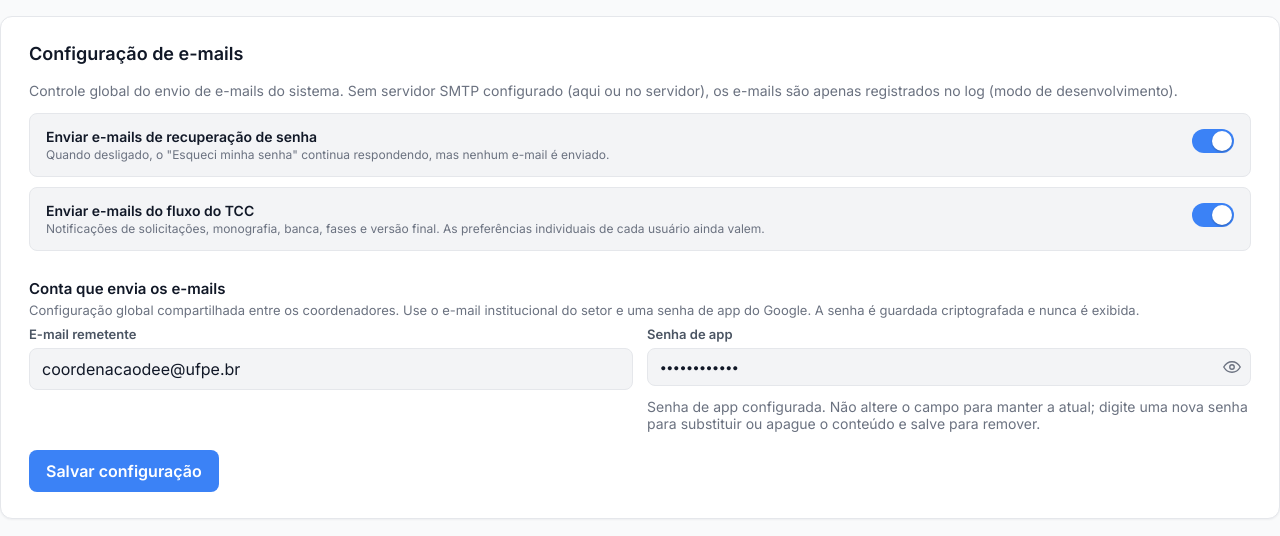
Revelar a senha de app pelo olho (sem modal) › clicar de novo oculta e volta para a máscara
Expected: the heading "Conta que envia os e-mails" is shown, 29,279 -> 226,298
Click the button named "Mostrar senha de app" at (1231, 367), box 1217,353 -> 1245,381
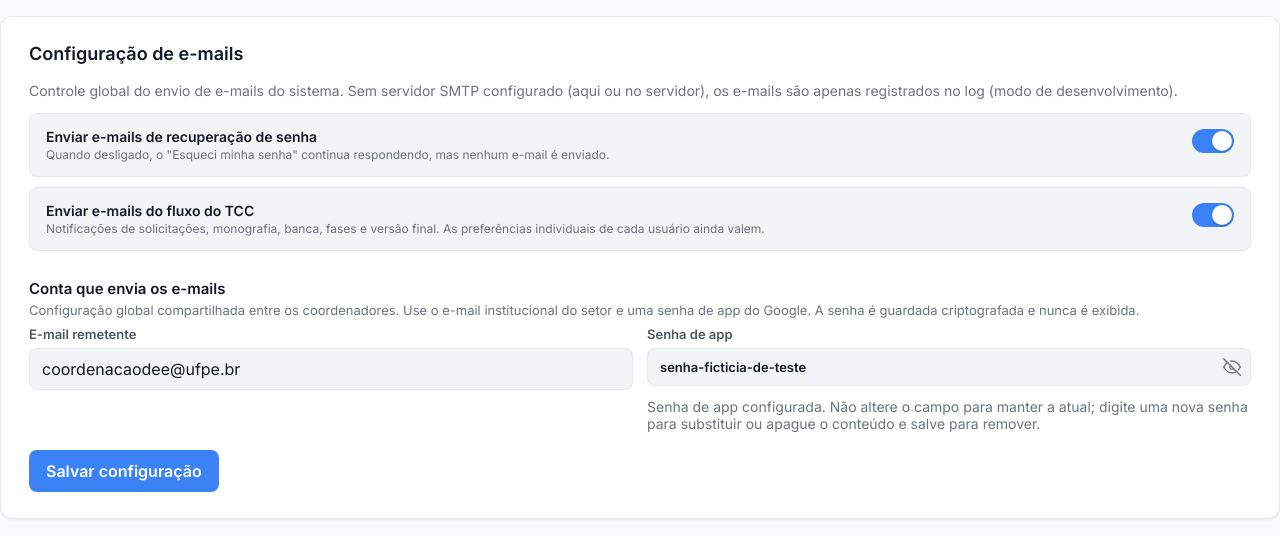
Expected: the field showing "senha-ficticia-de-teste" is shown, 647,348 -> 1251,386
Click the button named "Ocultar senha de app" at (1231, 367), box 1217,353 -> 1245,381
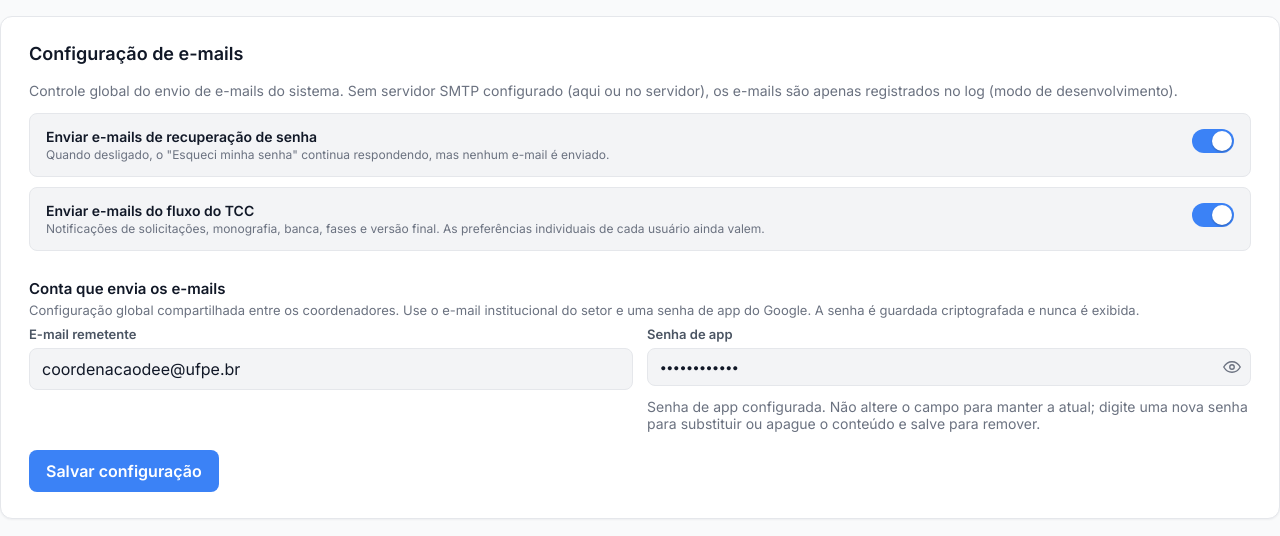
Expected: the password field labelled "Senha de app" holds "••••••••••••", 647,348 -> 1251,386
Expected: the password field labelled "Senha de app" hides its text, 647,348 -> 1251,386
